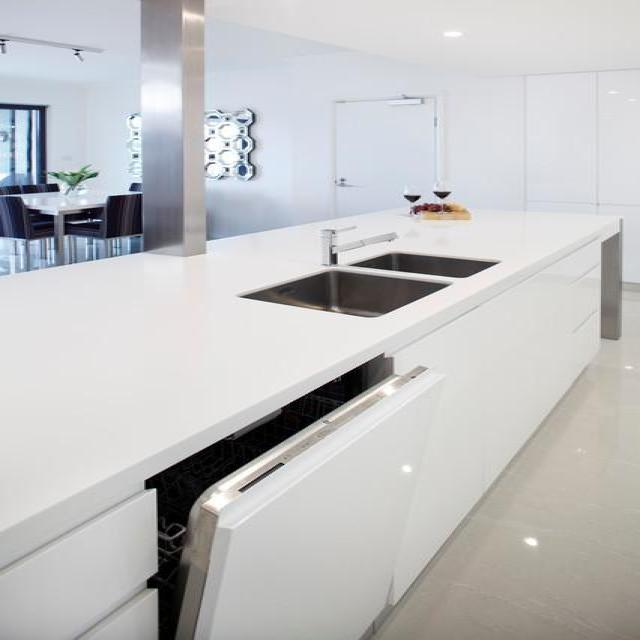dishwasher: (145, 353, 451, 640)
